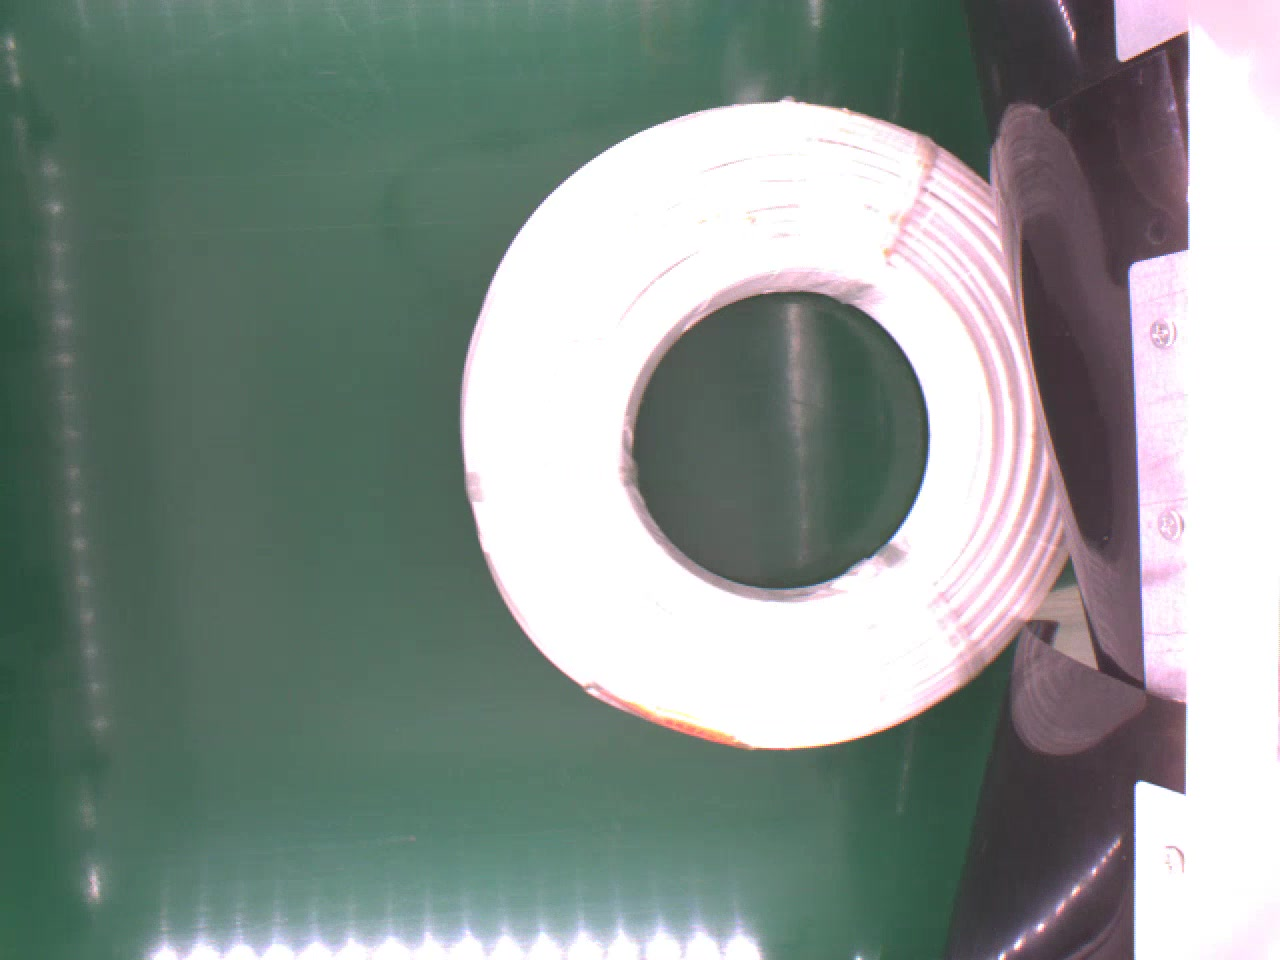white: (453, 93, 1076, 752)
